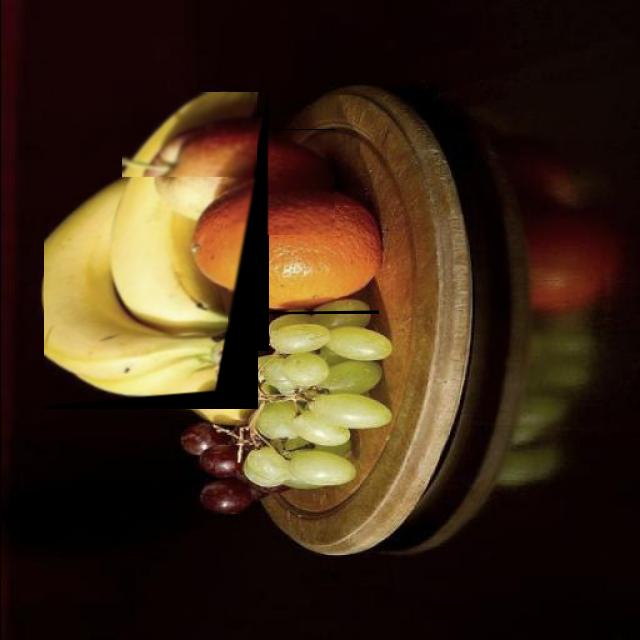Apple: (131, 130, 334, 235)
Banana: (44, 178, 228, 400), (122, 92, 257, 346)
Orange: (204, 189, 379, 313)
